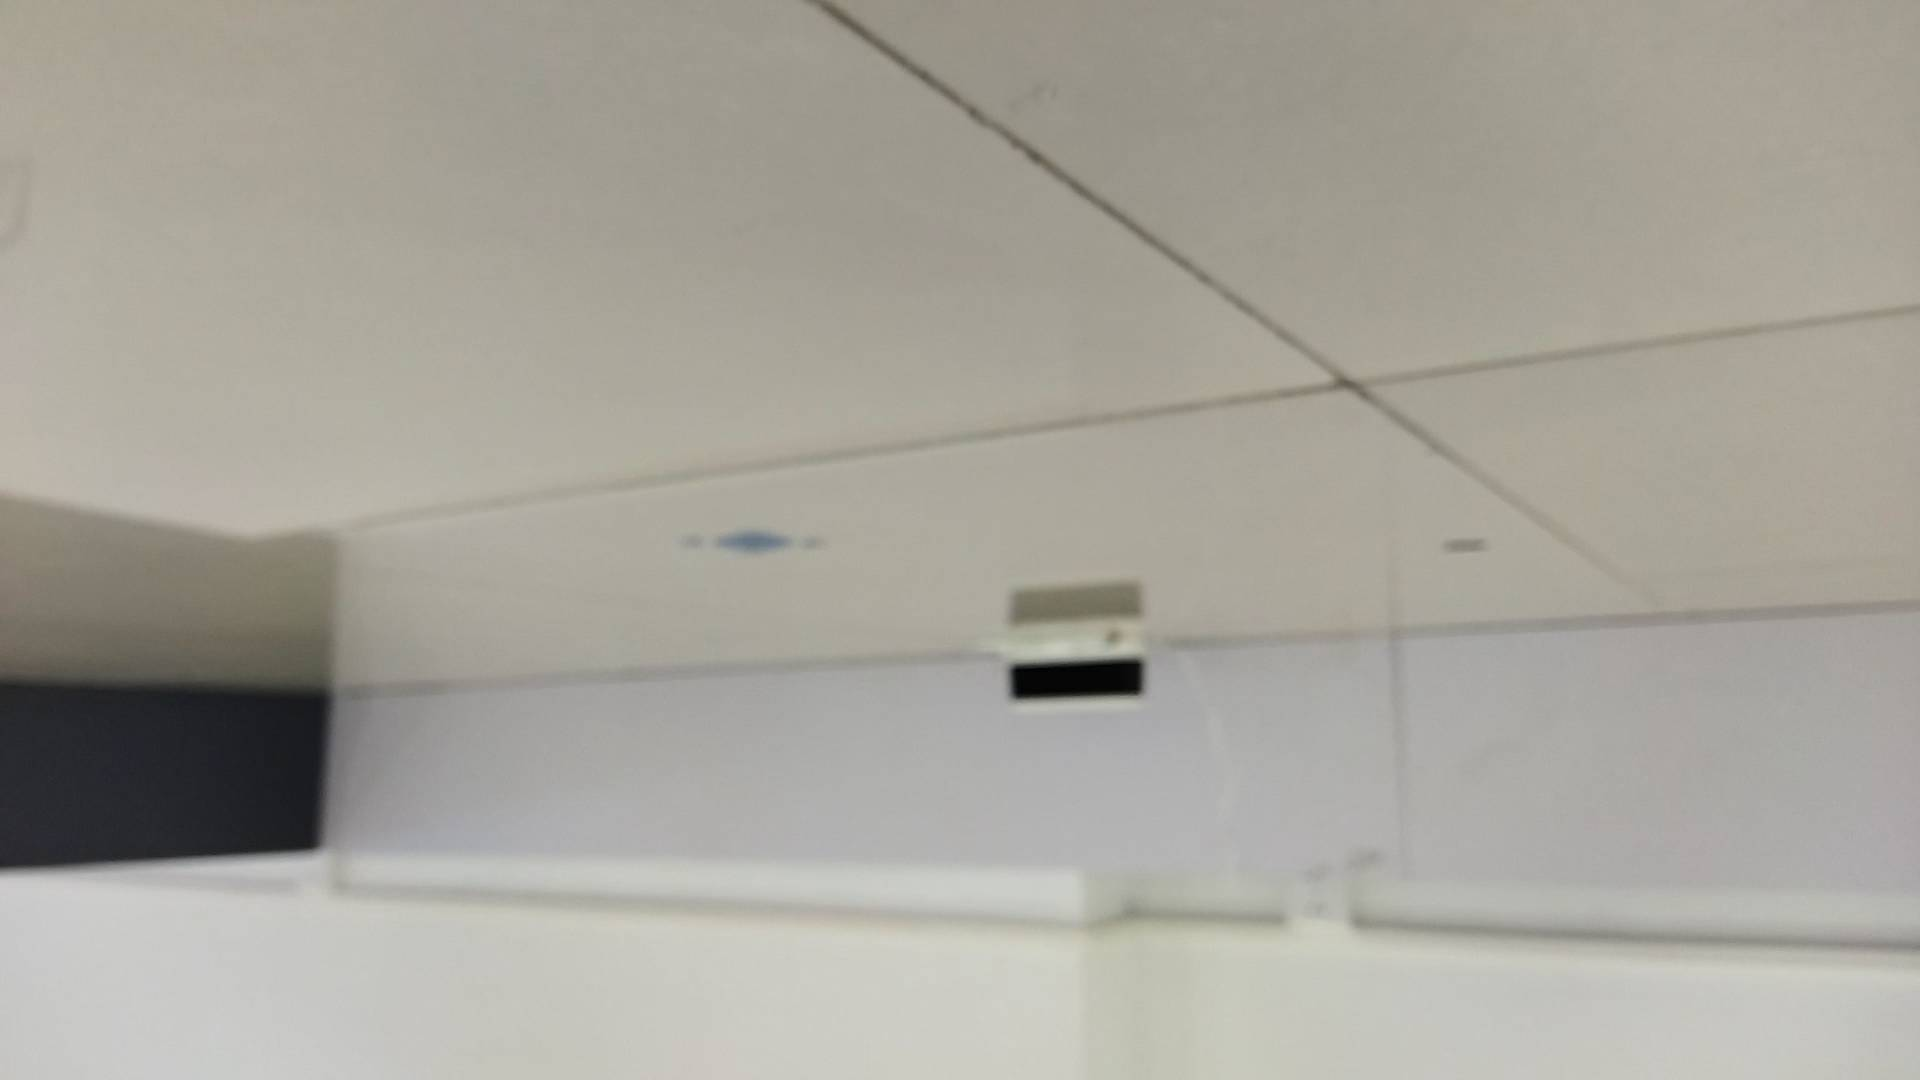recharge seat: (978, 615, 1153, 707)
